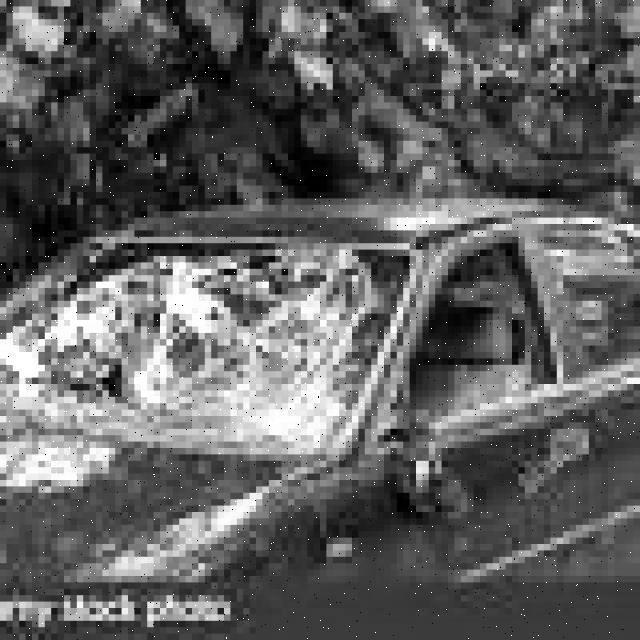Front-windscreen-damage: (0, 211, 448, 473)
